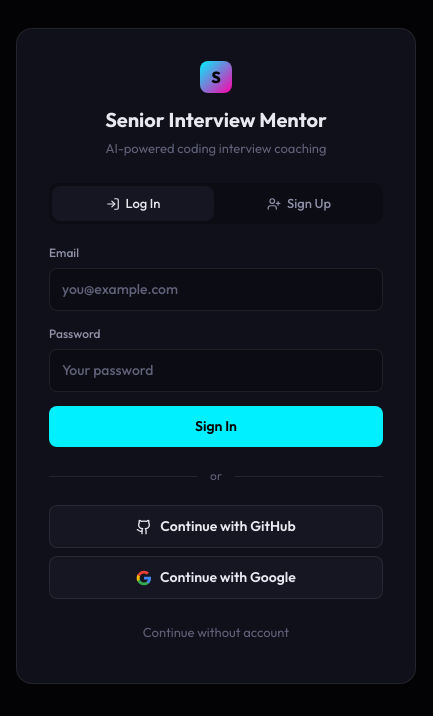
Test case: AuthPage › tab switching › switching tabs clears error
Type "a@b.com" into the field with placeholder "you@example.com" at (216, 290), box [49,268,383,311]
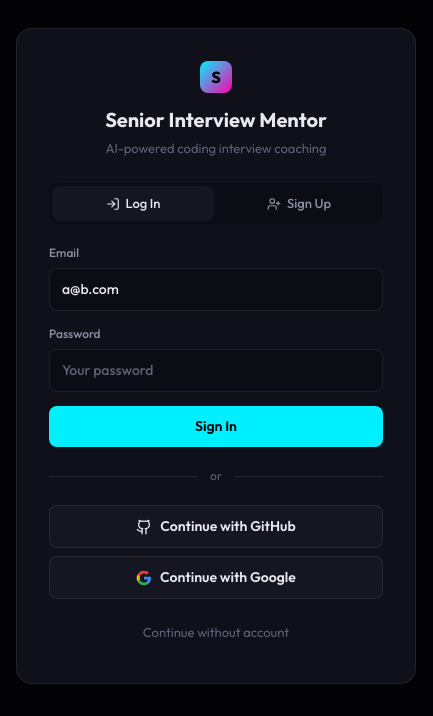
Type "wrong" into the password field with placeholder "Your password" at (216, 371), box [49,349,383,392]
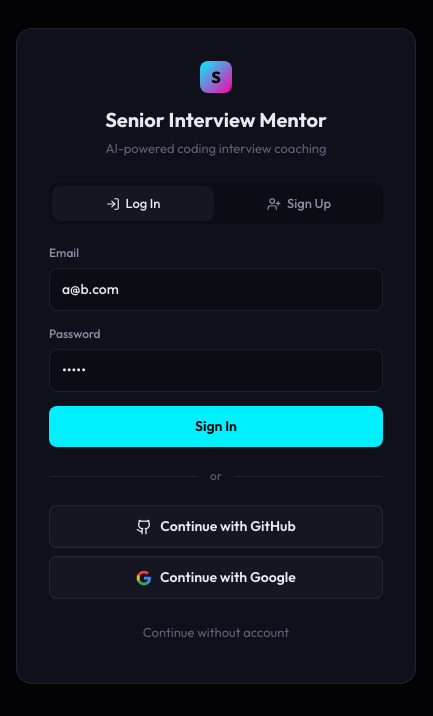
Submit the form "Sign In", box [49,244,383,447]
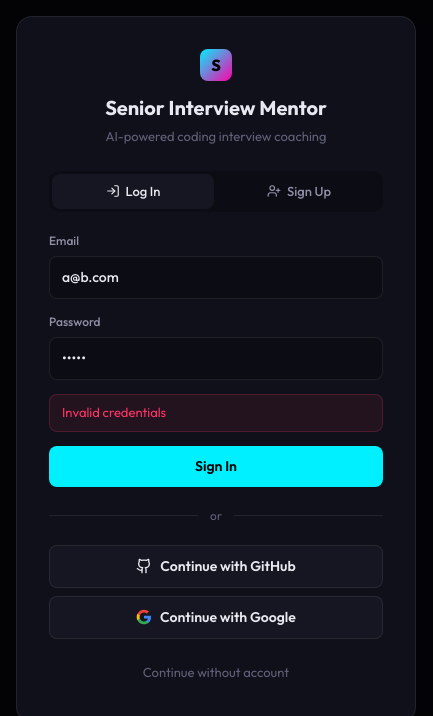
Expected: the text "Invalid credentials" is shown, [49,394,383,432]
Click the button "Sign Up" at (299, 191), box [218,174,380,209]
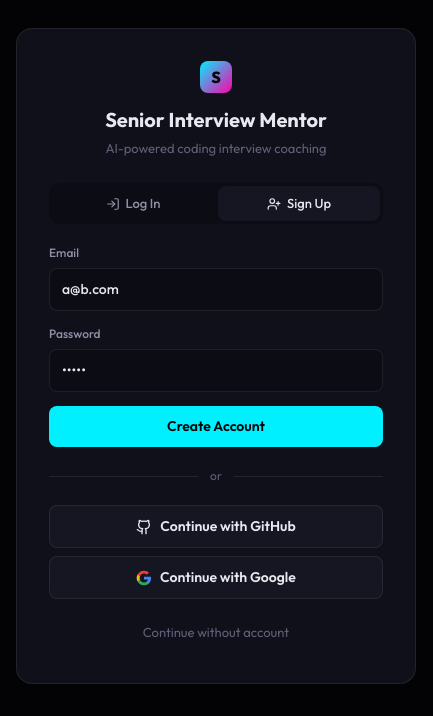
Expected: the text "Invalid credentials" is gone
